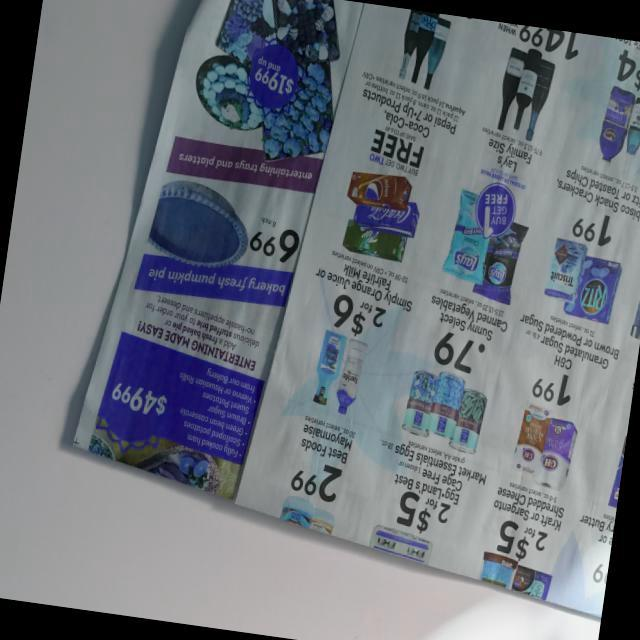paper: (49, 0, 640, 627)
